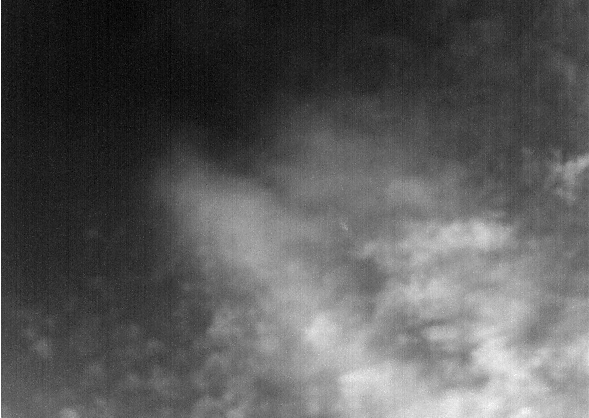dim target: (340, 221, 350, 231)
